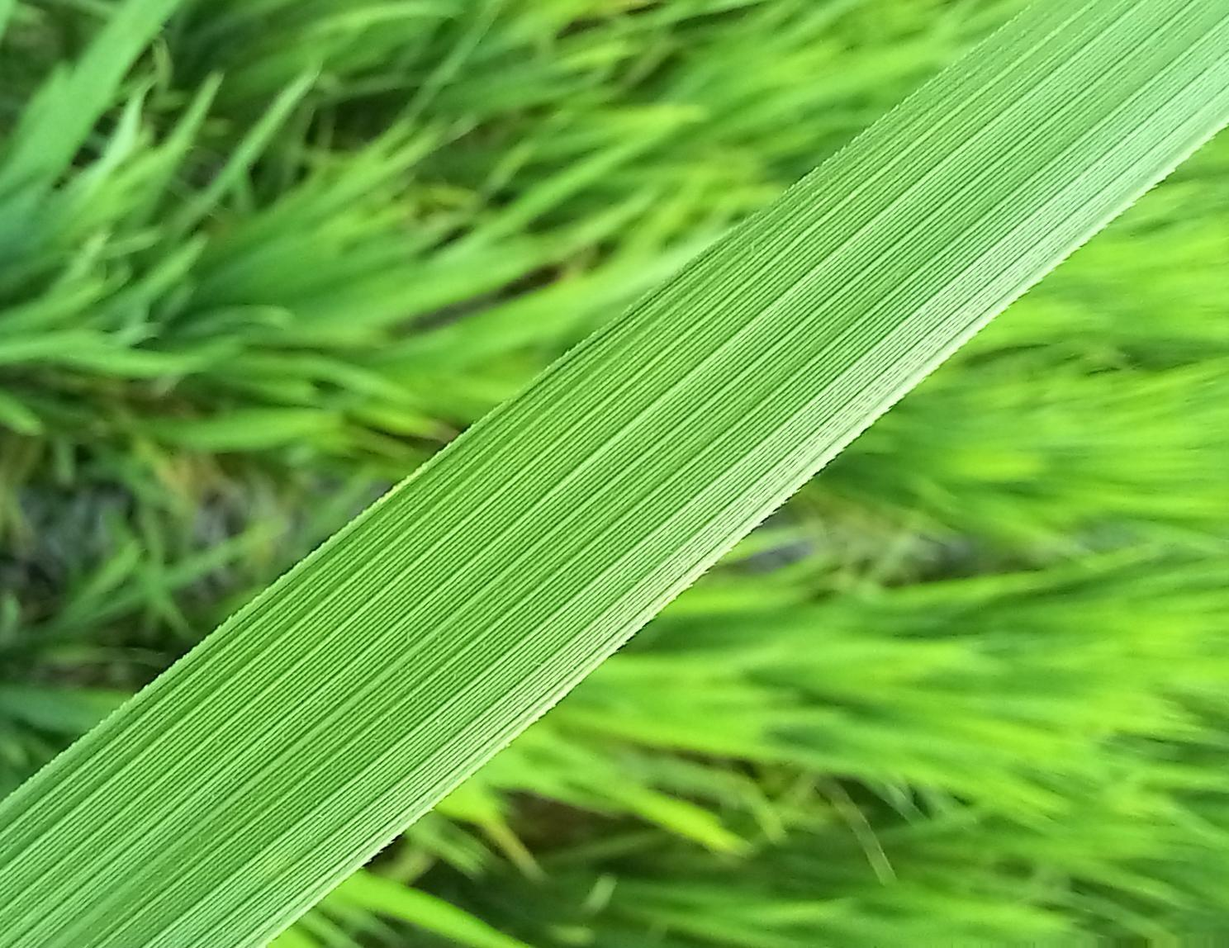Healthy: (0, 1, 1228, 948)
